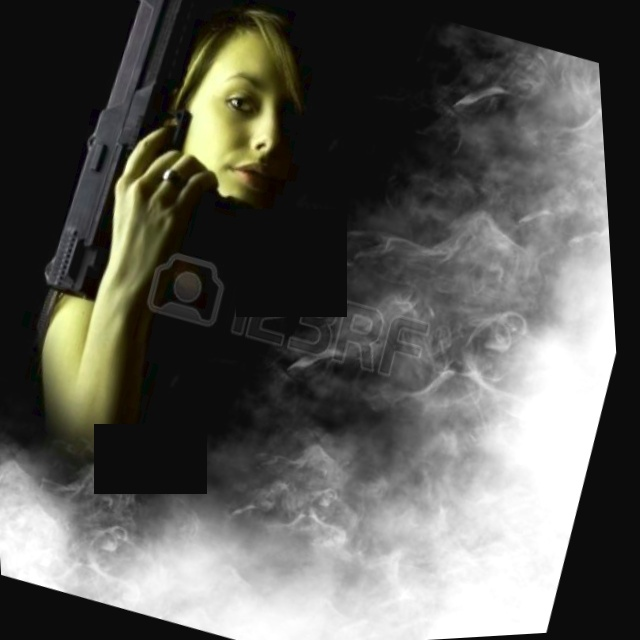gun: (17, 0, 296, 337)
